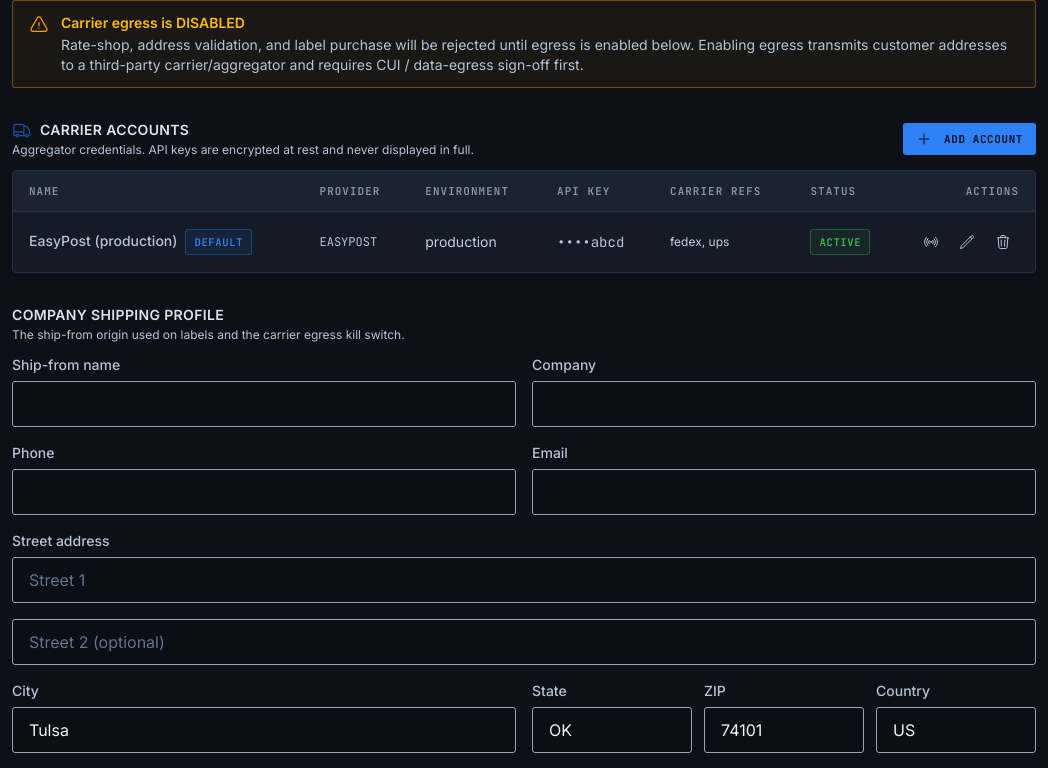
Test: CarrierIntegrationsTab — test connection › shows a success toast when the connection test passes
The width and height of the screenshot is (1048, 768).
Expected: the text "EasyPost (production)" is shown, [29,232,177,249]
Click the button titled "Test connection": (931, 242) [915,226,947,258]
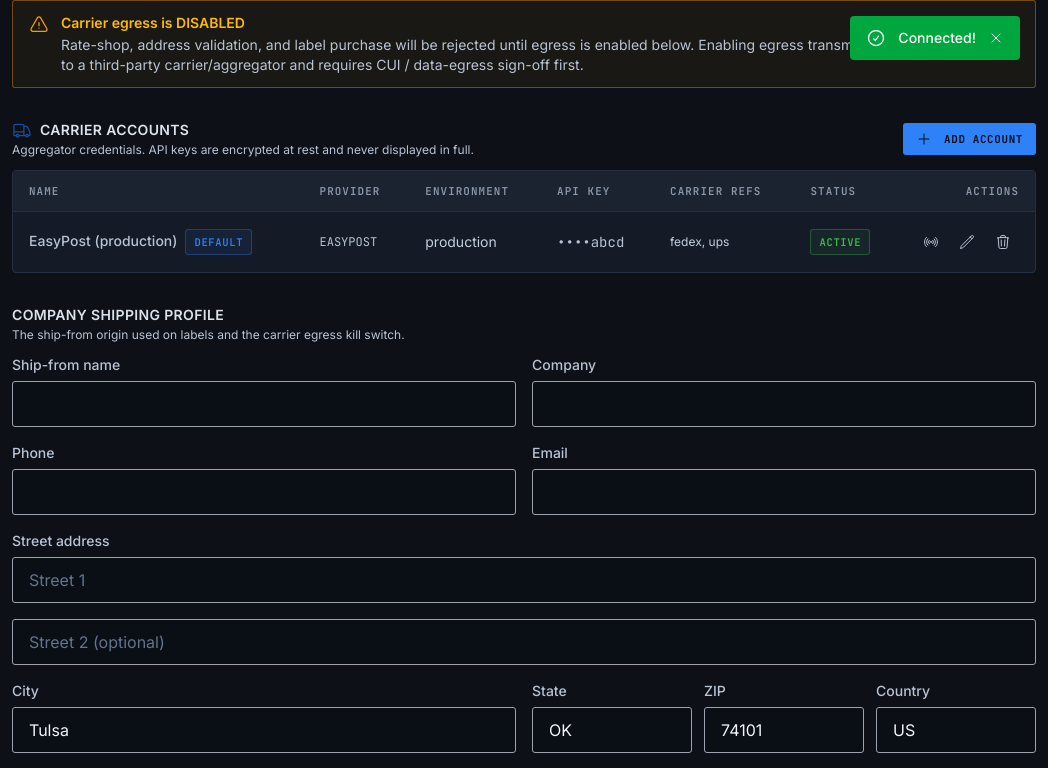
Result: the text "Connected!" is shown at [898,28,976,48]
